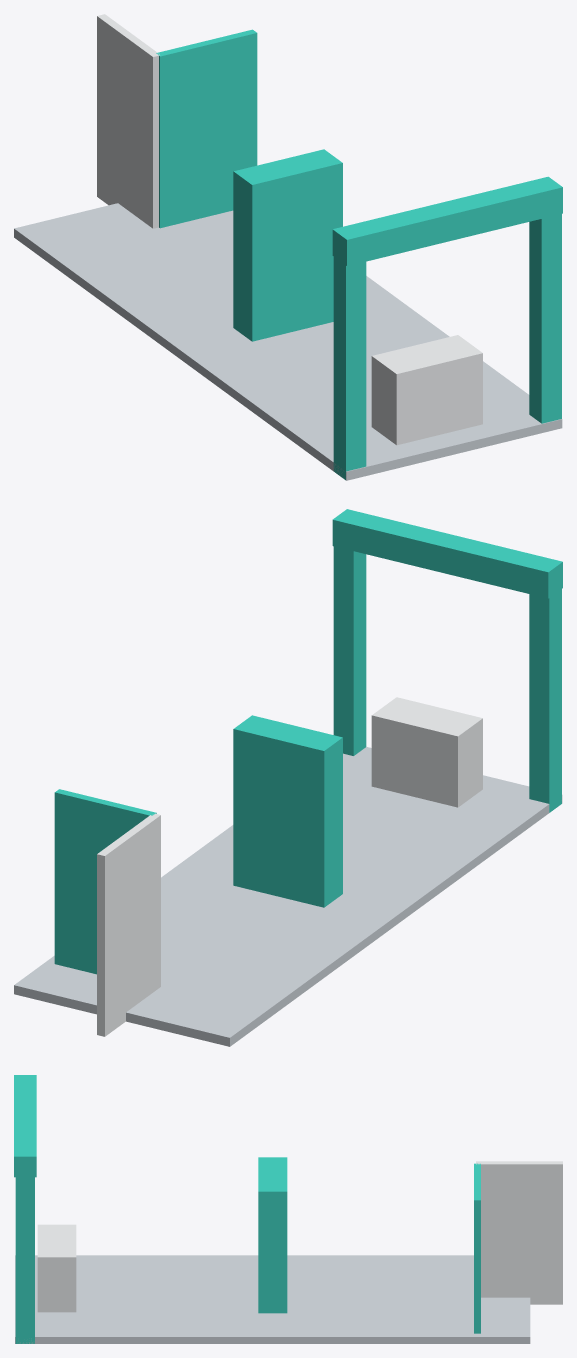
The picture shows the model from 3 angles, top to bottom: view 1: azimuth 30°, elevation 25°; view 2: azimuth 150°, elevation 25°; view 3: azimuth 270°, elevation 25°; orthographic projection. The views are drawn at different scales.
Visible parts, largest first — view 1: Exhibition Booth Concept; view 2: Exhibition Booth Concept; view 3: Exhibition Booth Concept.
Boxes of the visible parts, <box> form: Exhibition Booth Concept: <box>14,14,562,480</box>; Exhibition Booth Concept: <box>14,509,562,1046</box>; Exhibition Booth Concept: <box>14,1075,562,1343</box>.
Bounding box in the file's own units: 3 × 3.2 × 8.52.
